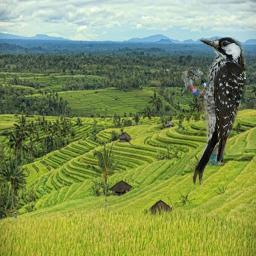Woodpecker: (181, 37, 246, 185)
